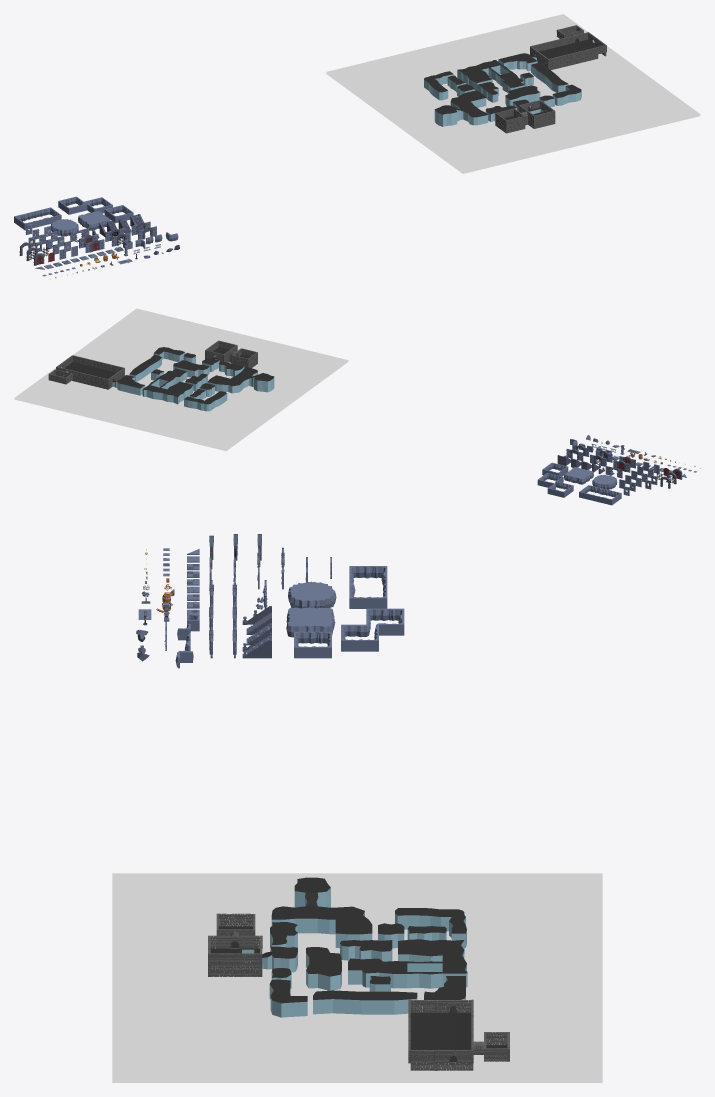
Rendered from Subterraneo_para_Unity_2.fbx.
3 views of the same model, one above another, from view 1: azimuth 30°, elevation 25°; view 2: azimuth 150°, elevation 25°; view 3: azimuth 270°, elevation 25° (orthographic). The views are drawn at different scales.
Parts seen in each view (by area): view 1: Plane.006, Cube.009, Cube.013, Plane.003, Plane.005, Cube.006, Cube.011, Cube.014, Cube.005; view 2: Plane.006, Cube.013, Cube.009, Plane.003, Plane.005, Cube.011, Cube.006, Cube.014, Cube.005; view 3: Plane.006, Cube.013, Cube.009, Plane.003, Cube.006, Cube.011, Plane.005, Cube.014, Cube.005, Cube.012.
Boxes of the visible parts, box(x1,y1,x2,y2) form: Plane.006: box(326, 14, 700, 172); Cube.009: box(434, 90, 488, 126); Cube.013: box(457, 60, 524, 92); Plane.003: box(498, 39, 597, 71); Plane.005: box(326, 73, 700, 173); Cube.006: box(531, 63, 568, 92); Cube.011: box(424, 71, 453, 100); Cube.014: box(505, 85, 540, 106); Cube.005: box(552, 84, 581, 105); Plane.006: box(14, 308, 348, 449); Cube.013: box(142, 368, 193, 404); Cube.009: box(207, 367, 274, 393); Plane.003: box(64, 362, 145, 395); Plane.005: box(14, 361, 348, 451); Cube.011: box(184, 391, 227, 411); Cube.006: box(129, 354, 161, 382); Cube.014: box(173, 360, 209, 377); Cube.005: box(153, 347, 185, 362); Plane.006: box(112, 873, 602, 1080); Cube.013: box(348, 939, 467, 988); Cube.009: box(271, 877, 372, 948); Plane.003: box(410, 976, 507, 1062); Cube.006: box(313, 990, 417, 1014); Cube.011: box(395, 908, 466, 947); Plane.005: box(112, 961, 602, 1082); Cube.014: box(306, 947, 341, 990); Cube.005: box(269, 979, 307, 1017); Cube.012: box(340, 940, 392, 961).
Size of the model in its own units: 72283 by 3323 by 26759.
